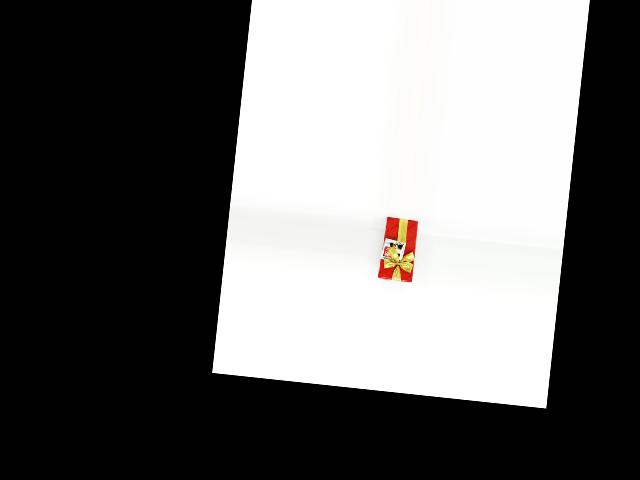chocolate: (377, 217, 421, 285)
